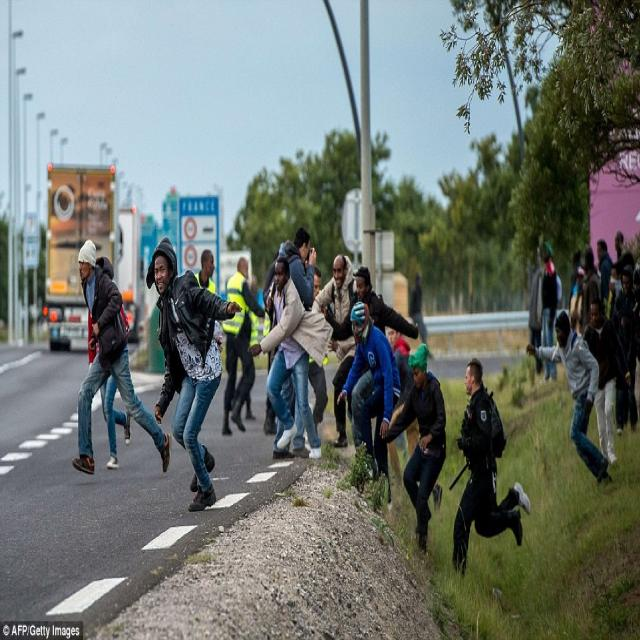body: (144, 234, 244, 513), (70, 236, 172, 478), (320, 264, 419, 472), (245, 255, 333, 463), (450, 356, 524, 576), (451, 357, 524, 579), (524, 306, 612, 488), (381, 342, 447, 559), (336, 299, 401, 484), (272, 224, 318, 460), (311, 251, 359, 450), (94, 255, 132, 471), (221, 255, 266, 437), (291, 264, 329, 439), (582, 295, 619, 472), (260, 256, 292, 442), (614, 269, 639, 437), (607, 229, 639, 321), (540, 241, 558, 384), (528, 245, 544, 376), (580, 245, 602, 336), (565, 245, 584, 348), (386, 326, 410, 404), (230, 374, 257, 422), (595, 237, 614, 302), (194, 247, 218, 294), (568, 264, 580, 316)
